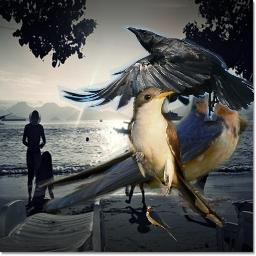Crow: (57, 25, 254, 121)
Cuckoo: (127, 86, 227, 230)
Swallow: (2, 70, 252, 215), (146, 206, 177, 241)
